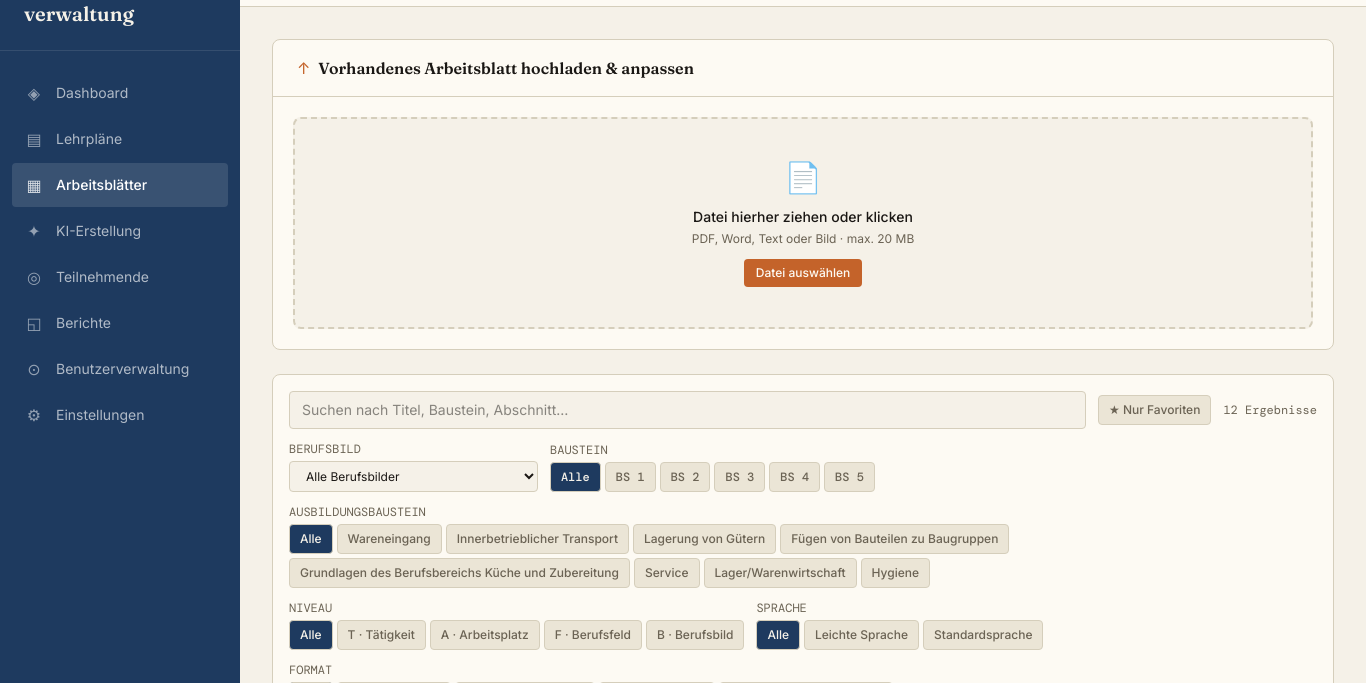
Arbeitsblätter › filtert die Liste ueber die Suche
This screenshot has width=1366, height=683.
Type "anrichten" into the search field named "Arbeitsblätter durchsuchen" at (687,410), box left=289, top=391, right=1086, bottom=429
(page scrolled)
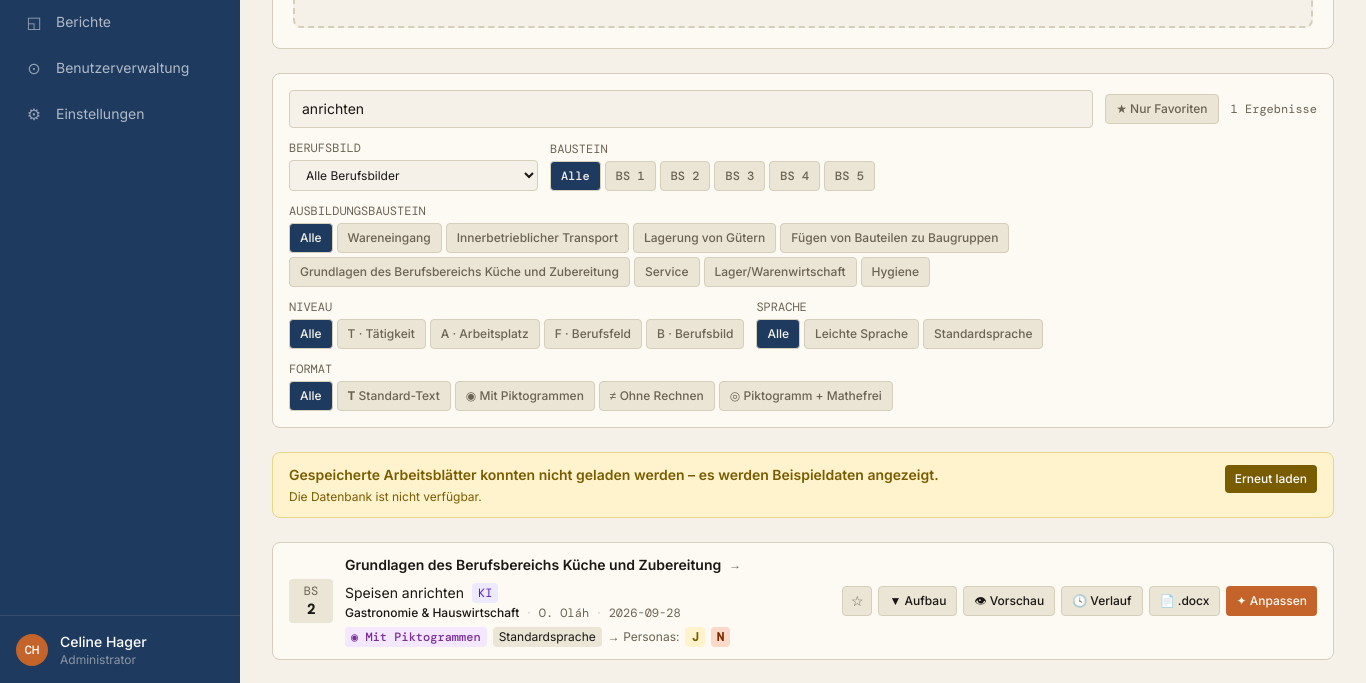
Check: the element "Speisen anrichten" is shown, box left=272, top=542, right=1334, bottom=660
Check: the text "1 Ergebnisse" is shown, box left=1231, top=101, right=1317, bottom=117
